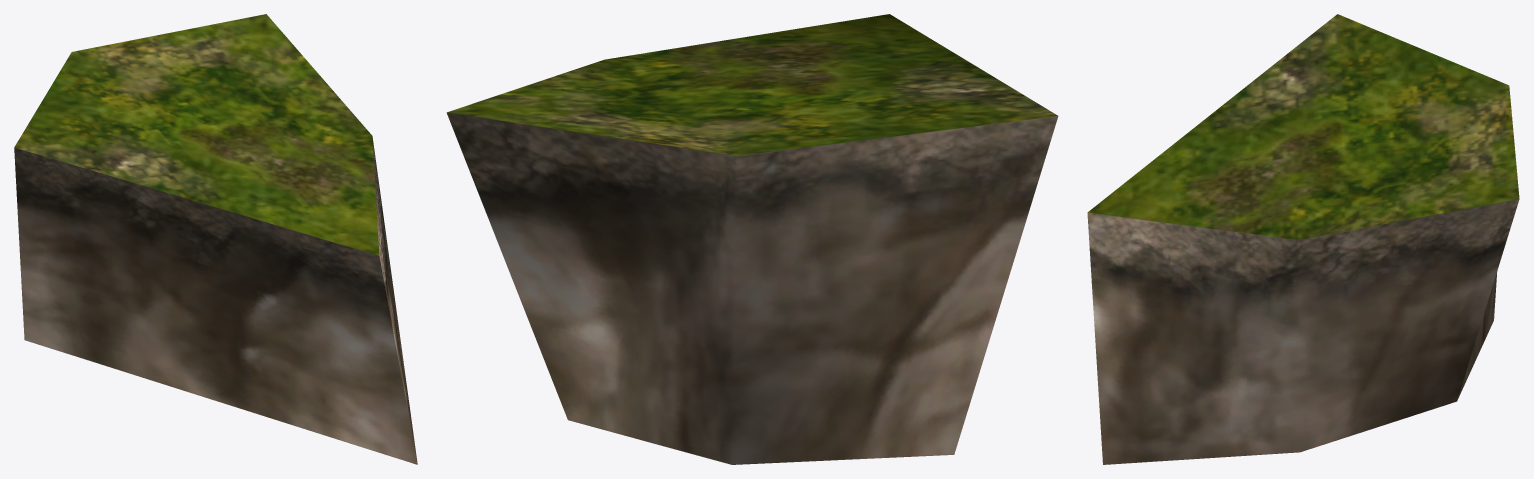
Rendered from ANIMATEDINSTANCES_OH_ROCKFALL_200__AI.fbx.
3 renders of one model, left to right at view 1: azimuth 30°, elevation 25°; view 2: azimuth 150°, elevation 25°; view 3: azimuth 270°, elevation 25°, orthographic. The views are drawn at different scales.
Parts seen in each view (by area): view 1: ANIMATEDINSTANCES_OH_ROCKFALL_200__AI; view 2: ANIMATEDINSTANCES_OH_ROCKFALL_200__AI; view 3: ANIMATEDINSTANCES_OH_ROCKFALL_200__AI.
Part boxes in pixels (x1,y1,x2,y2): ANIMATEDINSTANCES_OH_ROCKFALL_200__AI: (14,14,417,464); ANIMATEDINSTANCES_OH_ROCKFALL_200__AI: (446,14,1058,464); ANIMATEDINSTANCES_OH_ROCKFALL_200__AI: (1087,14,1519,464).
Size of the model in its own units: 8231 by 6979 by 8869.
Materials: 2 (2 with a texture image).
